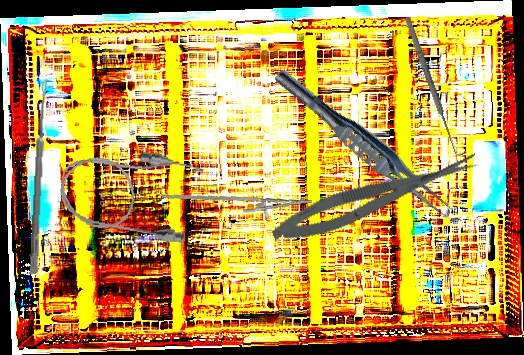Cannula: (55, 139, 205, 246)
Hook Surgical: (402, 14, 467, 159)
Micro Scissor: (267, 146, 484, 251)
Needle Holder: (161, 181, 314, 228)
Surgical Spoon: (29, 78, 49, 275)
Tissue Forceps: (267, 64, 461, 225)
